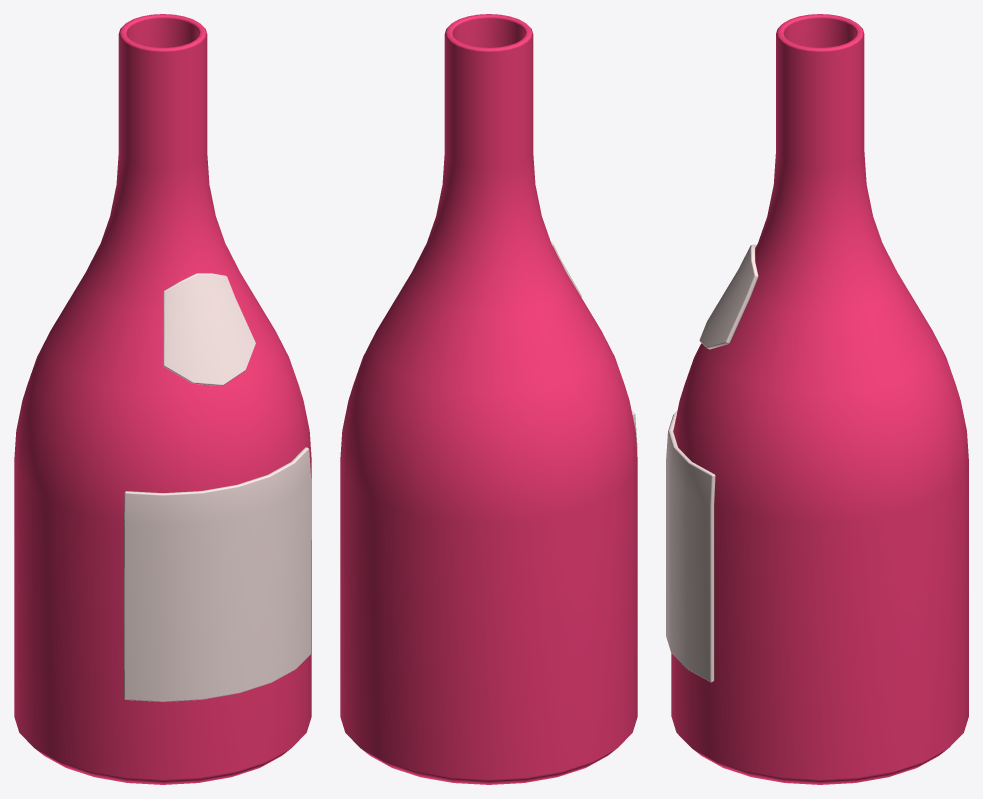
Rendered from City_16_Bottle_of_Wine_2.glb.
The picture shows the model from 3 angles, left to right: view 1: azimuth 30°, elevation 25°; view 2: azimuth 150°, elevation 25°; view 3: azimuth 270°, elevation 25°; orthographic projection.
Visible parts, largest first — view 1: City_16_Bottle_of_Wine_2; view 2: City_16_Bottle_of_Wine_2; view 3: City_16_Bottle_of_Wine_2.
Part boxes in pixels (x1,y1,x2,y2): City_16_Bottle_of_Wine_2: [14, 14, 311, 784]; City_16_Bottle_of_Wine_2: [340, 14, 637, 784]; City_16_Bottle_of_Wine_2: [666, 14, 968, 784].
Size of the model in its own units: 0.1886 by 0.4862 by 0.192.
1 material, 1 textured.
